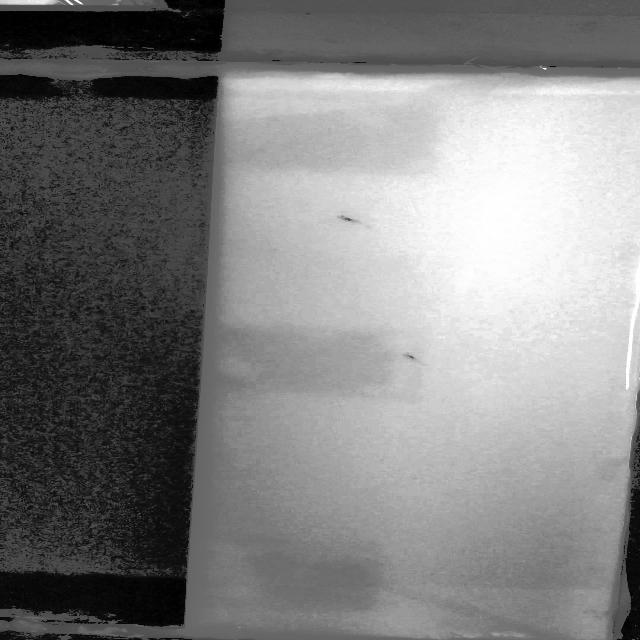shrimp: (326, 210, 368, 228), (396, 351, 426, 366)
